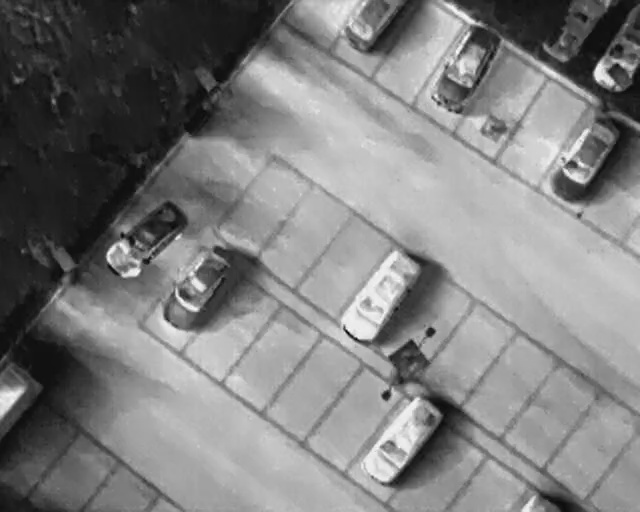Car: (334, 245, 430, 353), (96, 191, 196, 287), (355, 390, 448, 490), (156, 238, 242, 338), (425, 20, 507, 120), (543, 114, 622, 210), (592, 0, 638, 95), (542, 0, 602, 66), (343, 1, 416, 55)
